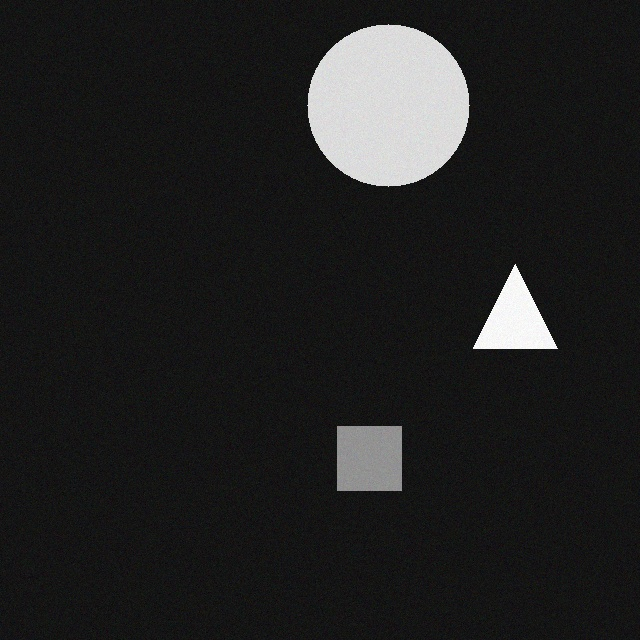circle: (316, 29, 478, 191)
square: (346, 431, 410, 495)
triangle: (482, 269, 566, 353)
